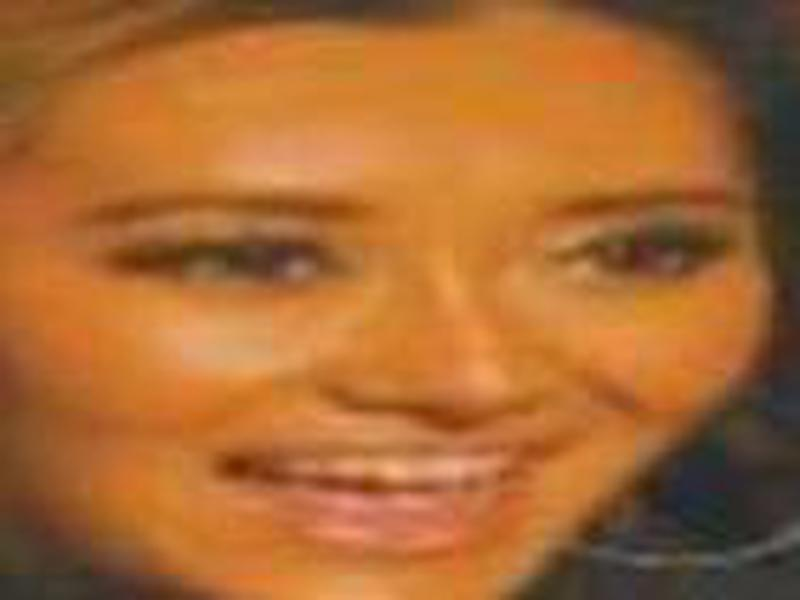without_mask: (23, 18, 778, 600)
